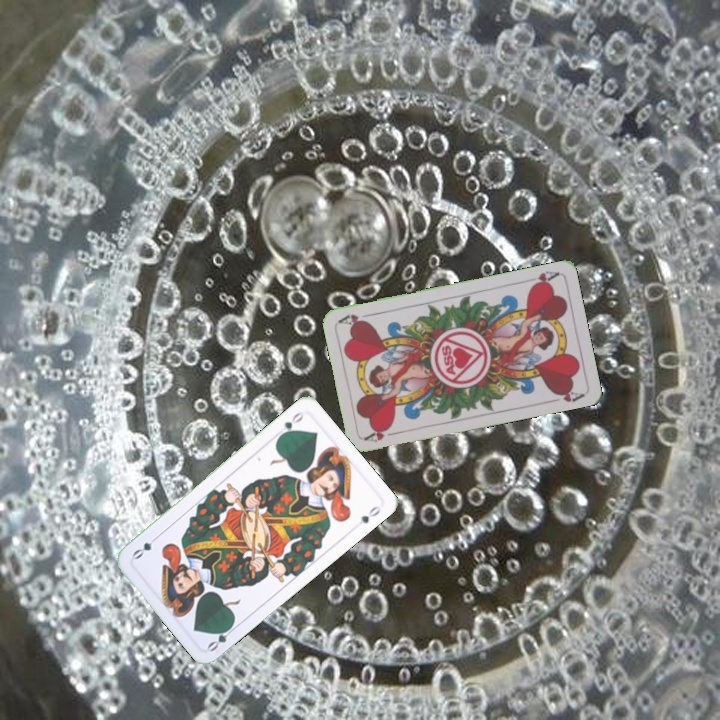GO: (203, 620, 239, 654), (274, 408, 307, 441)
HA: (361, 422, 401, 445), (526, 266, 561, 290)
